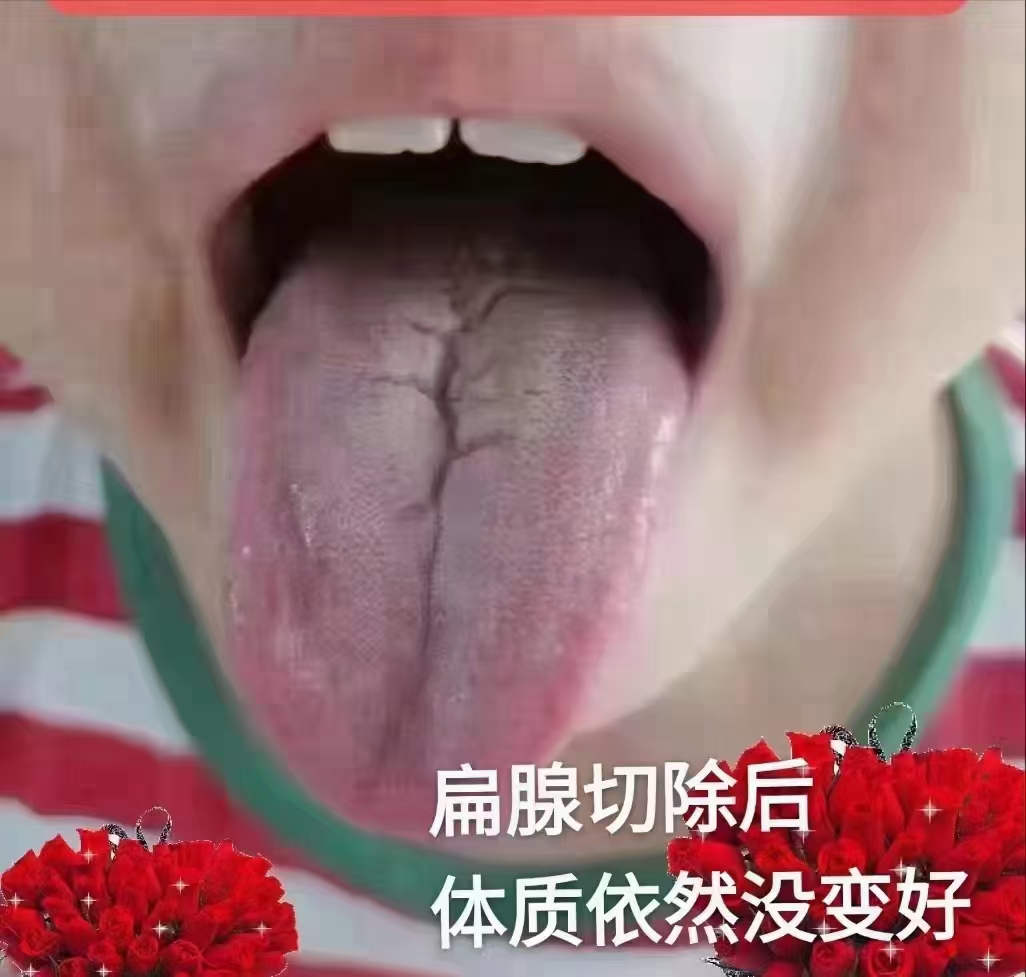baitaishe: (230, 235, 692, 838)
liewenshe: (365, 261, 546, 704)
